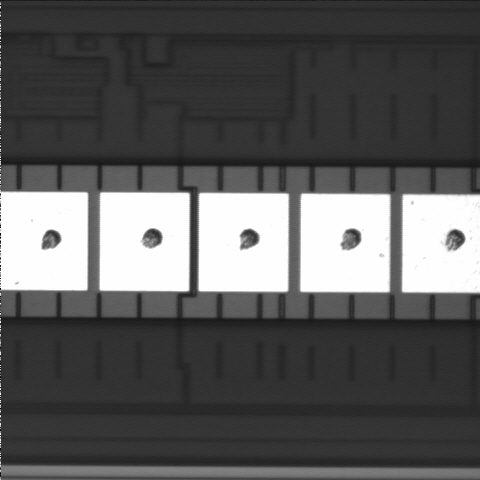pad: (100, 192, 190, 291), (199, 193, 289, 292), (300, 194, 390, 292)
